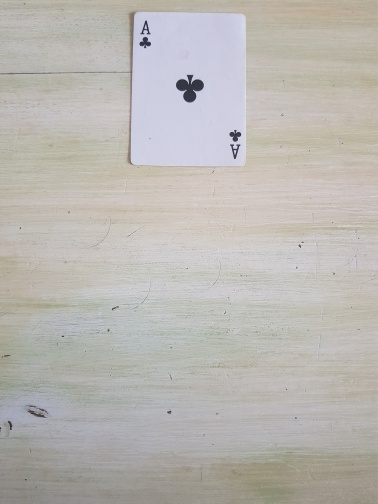ace: (129, 11, 248, 168)
